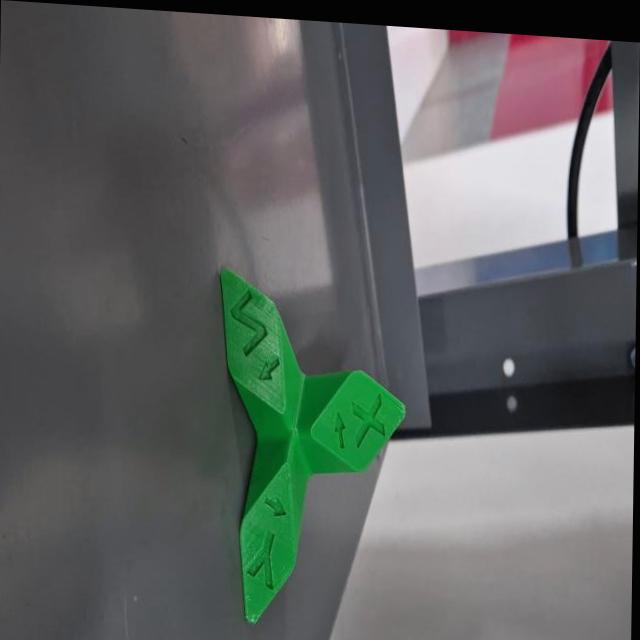eje: (208, 261, 411, 640)
